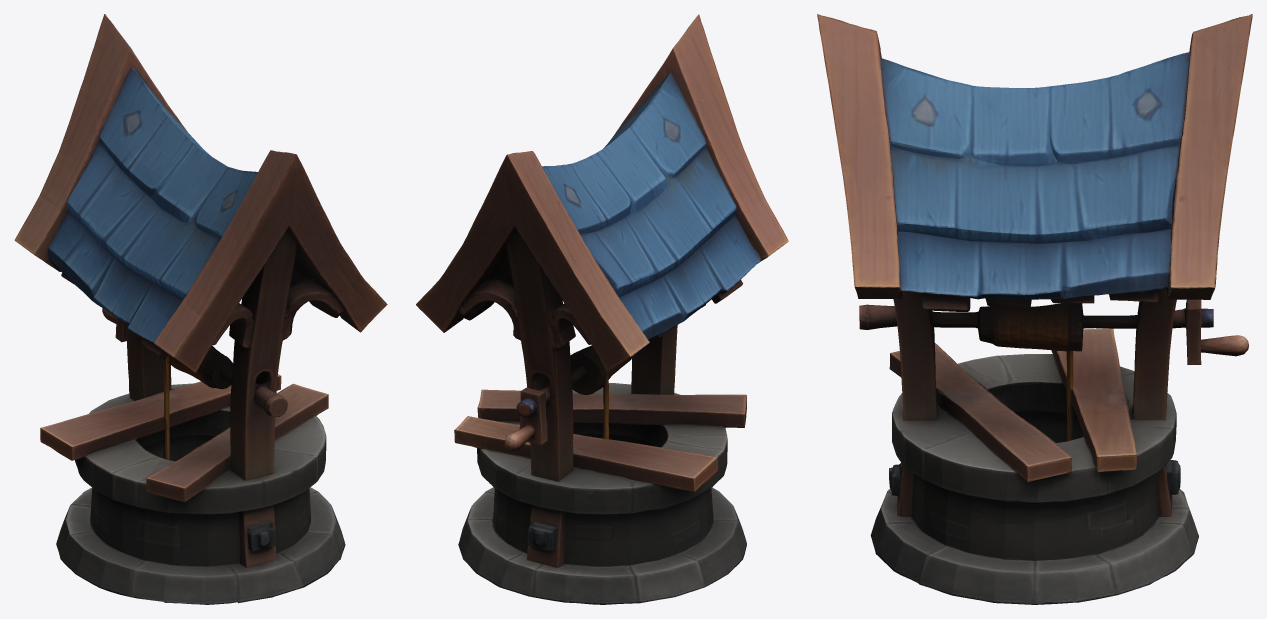
The model's file is PartObjaverseTiny_Fifteen.glb.
3 views of the same model, side by side, from view 1: azimuth 30°, elevation 25°; view 2: azimuth 150°, elevation 25°; view 3: azimuth 270°, elevation 25° (orthographic). The views are drawn at different scales.
Parts seen in each view (by area): view 1: world; view 2: world; view 3: world.
Part boxes in pixels (x1,y1,x2,y2): world: (14, 14, 387, 604); world: (416, 14, 788, 604); world: (817, 14, 1252, 604).
Bounding box in the file's own units: 0.5688 × 0.9984 × 0.7537.
Materials: 1 (1 with a texture image).
